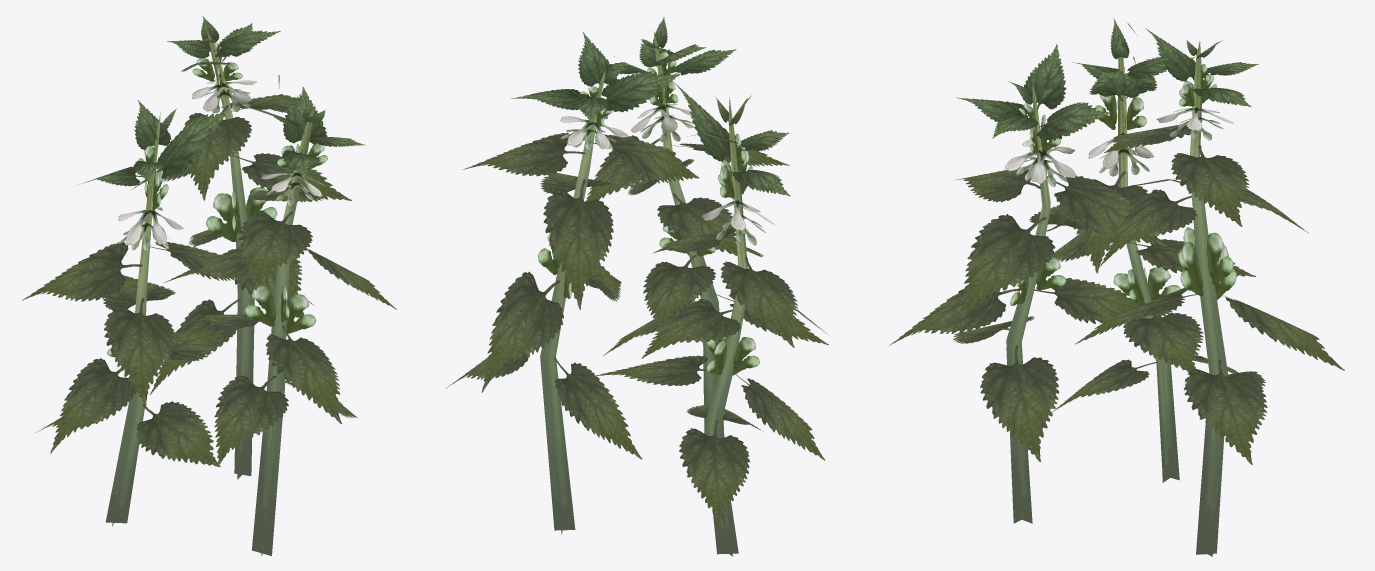
Rendered from arden_forest_nettle_03_foliage.fbx.
3 views of the same model, side by side, from view 1: azimuth 30°, elevation 25°; view 2: azimuth 150°, elevation 25°; view 3: azimuth 270°, elevation 25° (orthographic). The views are drawn at different scales.
Visible parts, largest first — view 1: arden_forest_nettle_03_foliage; view 2: arden_forest_nettle_03_foliage; view 3: arden_forest_nettle_03_foliage.
Boxes of the visible parts, x1,y1,x2,y2 form: arden_forest_nettle_03_foliage: (22,16,397,555); arden_forest_nettle_03_foliage: (445,17,828,556); arden_forest_nettle_03_foliage: (889,18,1344,556).
Size of the model in its own units: 60.75 by 78.66 by 66.85.
